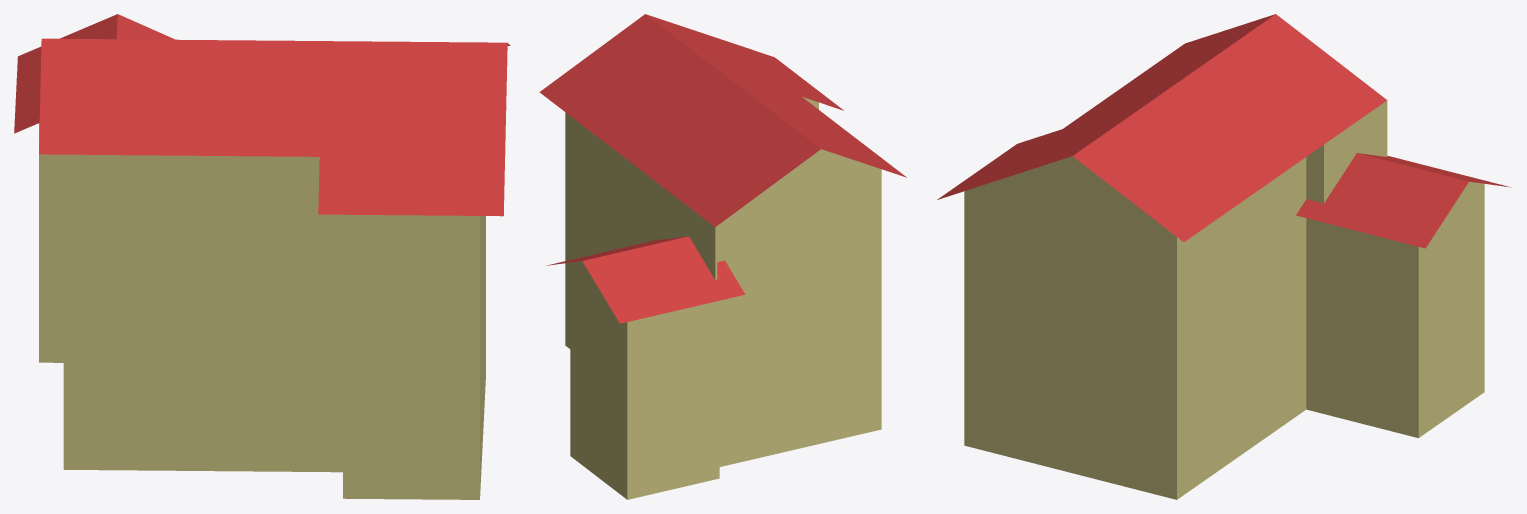
3 renders of one model, left to right at view 1: azimuth 30°, elevation 25°; view 2: azimuth 150°, elevation 25°; view 3: azimuth 270°, elevation 25°, orthographic. The views are drawn at different scales.
Parts seen in each view (by area): view 1: group_5, group_3, group_4, group_7, group_9, group_8; view 2: group_5, group_3, group_9, group_7, group_4, group_8; view 3: group_5, group_3, group_9, group_7, group_4, group_8.
Boxes of the visible parts, x1=… form: group_5: x1=44, y1=154, x2=485, y2=499; group_3: x1=39, y1=38, x2=507, y2=216; group_4: x1=227, y1=42, x2=510, y2=216; group_7: x1=14, y1=14, x2=174, y2=133; group_9: x1=39, y1=123, x2=44, y2=362; group_8: x1=14, y1=14, x2=171, y2=131; group_5: x1=565, y1=97, x2=881, y2=466; group_3: x1=539, y1=14, x2=906, y2=227; group_9: x1=570, y1=261, x2=719, y2=499; group_7: x1=547, y1=236, x2=744, y2=323; group_4: x1=646, y1=14, x2=843, y2=224; group_8: x1=548, y1=239, x2=742, y2=321; group_5: x1=964, y1=100, x2=1387, y2=499; group_3: x1=965, y1=14, x2=1386, y2=241; group_9: x1=1324, y1=181, x2=1484, y2=437; group_7: x1=1324, y1=153, x2=1510, y2=248; group_4: x1=937, y1=14, x2=1384, y2=199; group_8: x1=1296, y1=156, x2=1504, y2=248.
Size of the model in its own units: 16.78 by 21.08 by 13.2.
